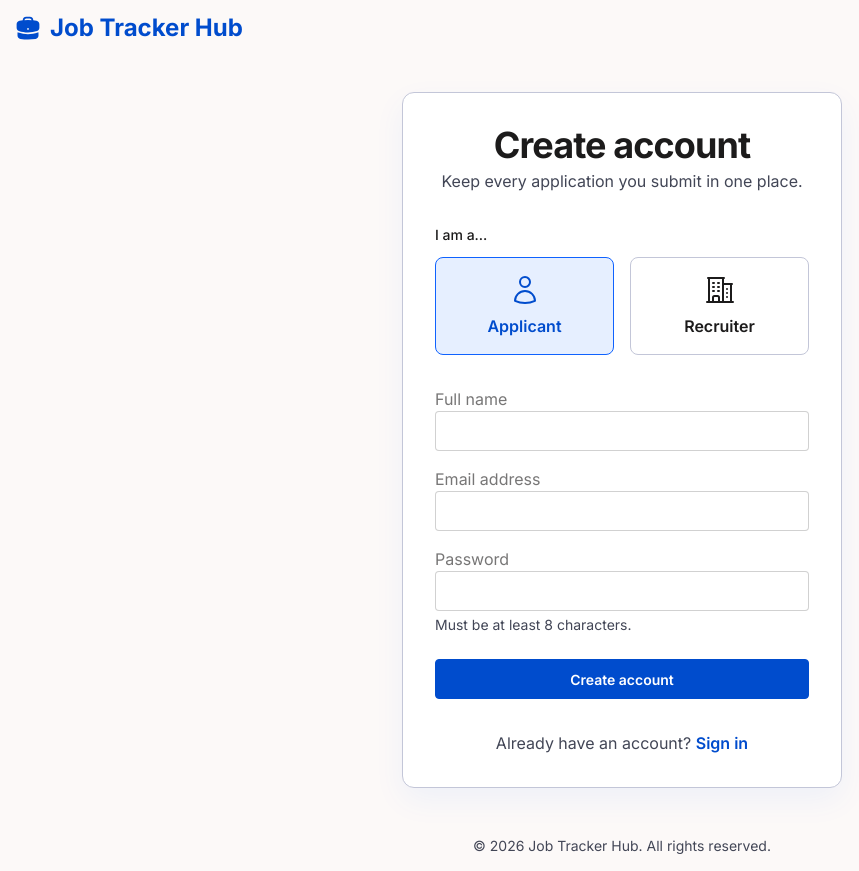
Test case: RegisterForm › shows an API error
The width and height of the screenshot is (859, 871).
In the field labelled "Full name": (622, 431) [435,411,809,451], type "Danny Nguyen"
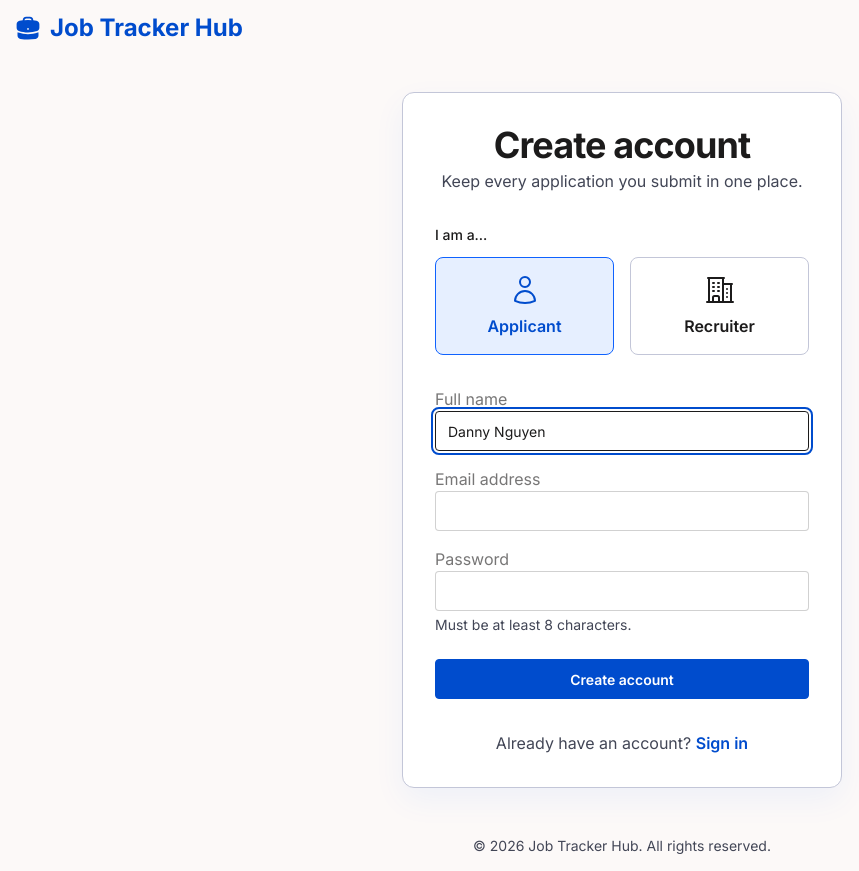
In the field labelled "Email address": (622, 511) [435,491,809,531], type "applicant@example.com"
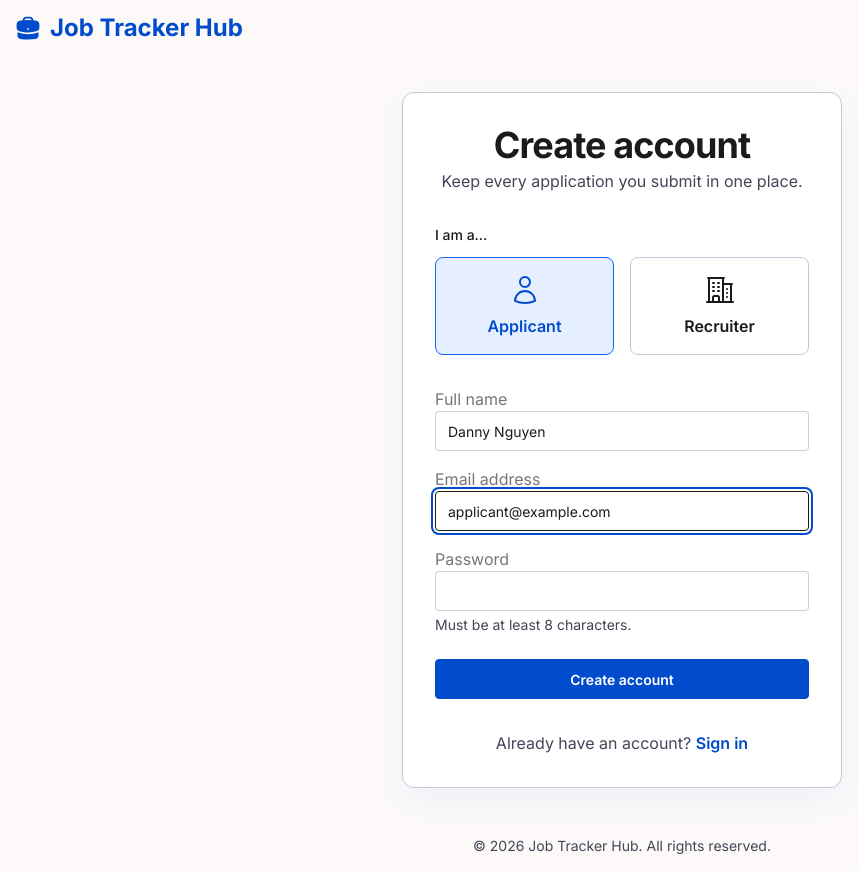
In the password field labelled "Password": (622, 591) [435,571,809,611], type "adminadmin"
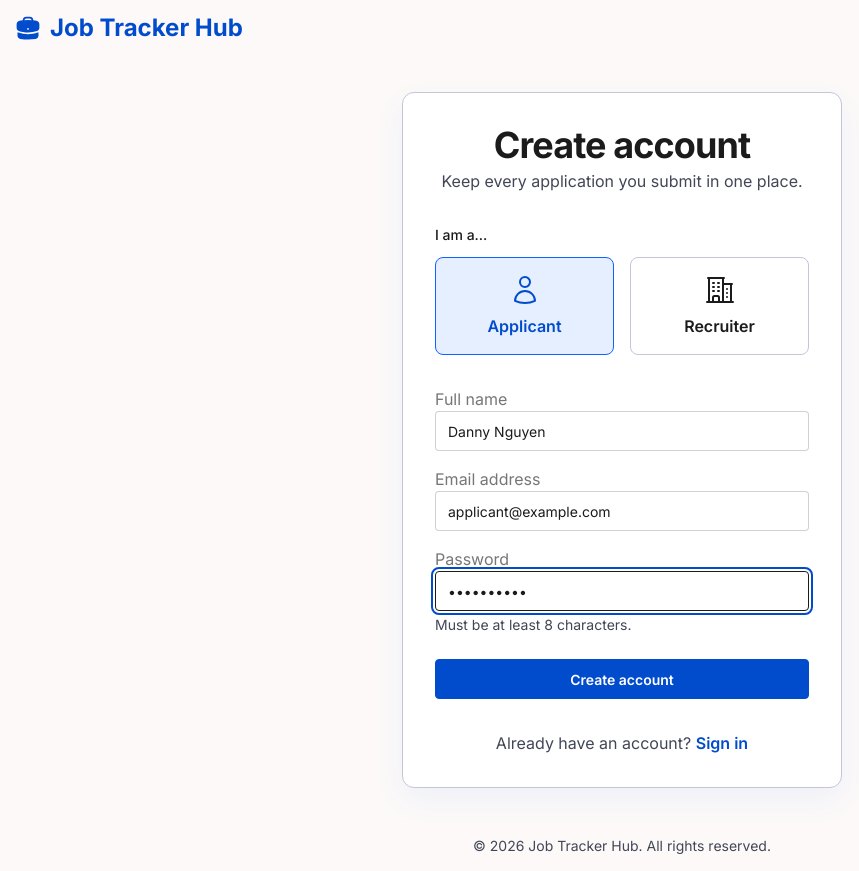
Click the button "Create account": (622, 679) [435,659,809,699]
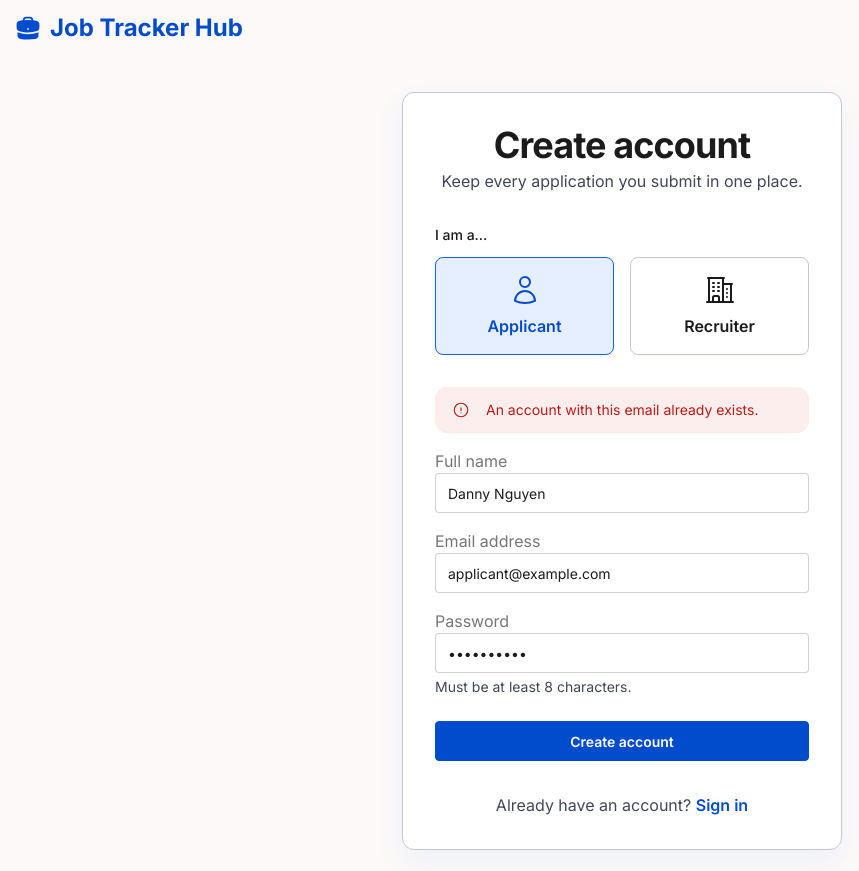
Expected: the text "An account with this email already exists." is shown, [486,400,758,420]
